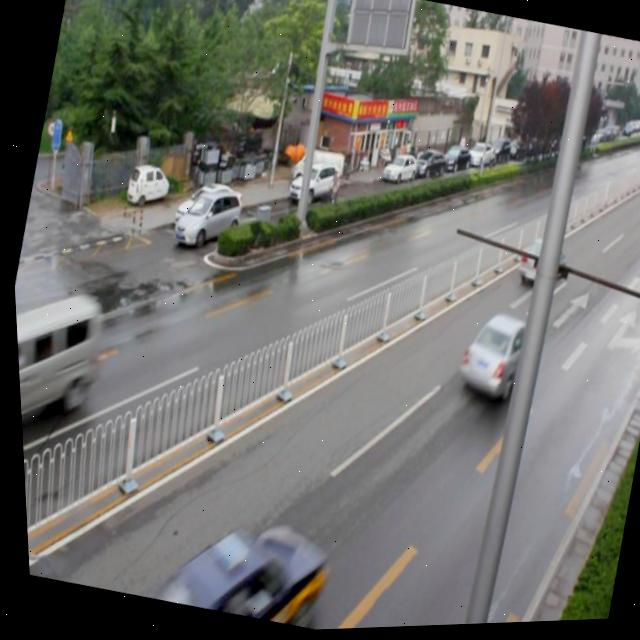car: (149, 496, 329, 632), (448, 305, 537, 412), (511, 240, 564, 294)
truck: (12, 280, 108, 452)
